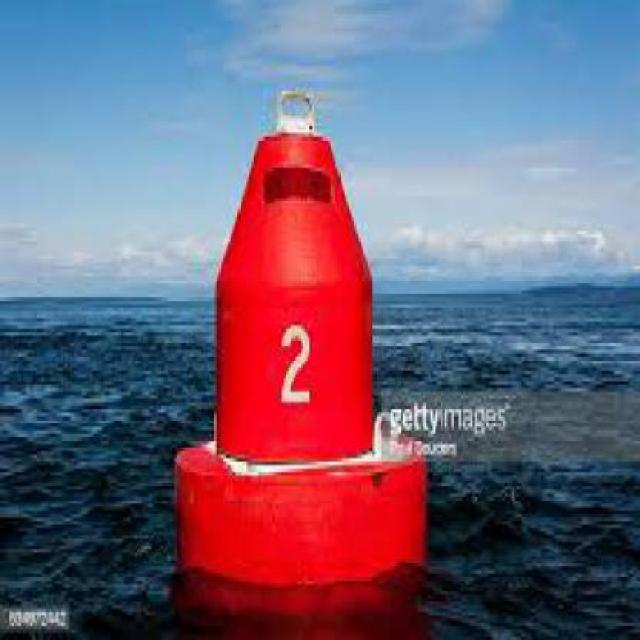buoy: (157, 74, 453, 599)
